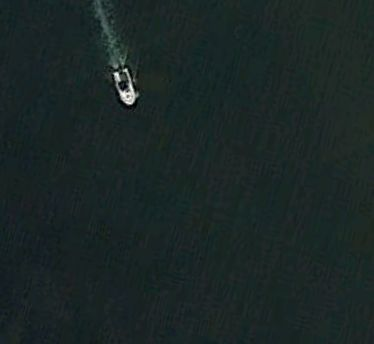boat: (111, 67, 138, 108)
